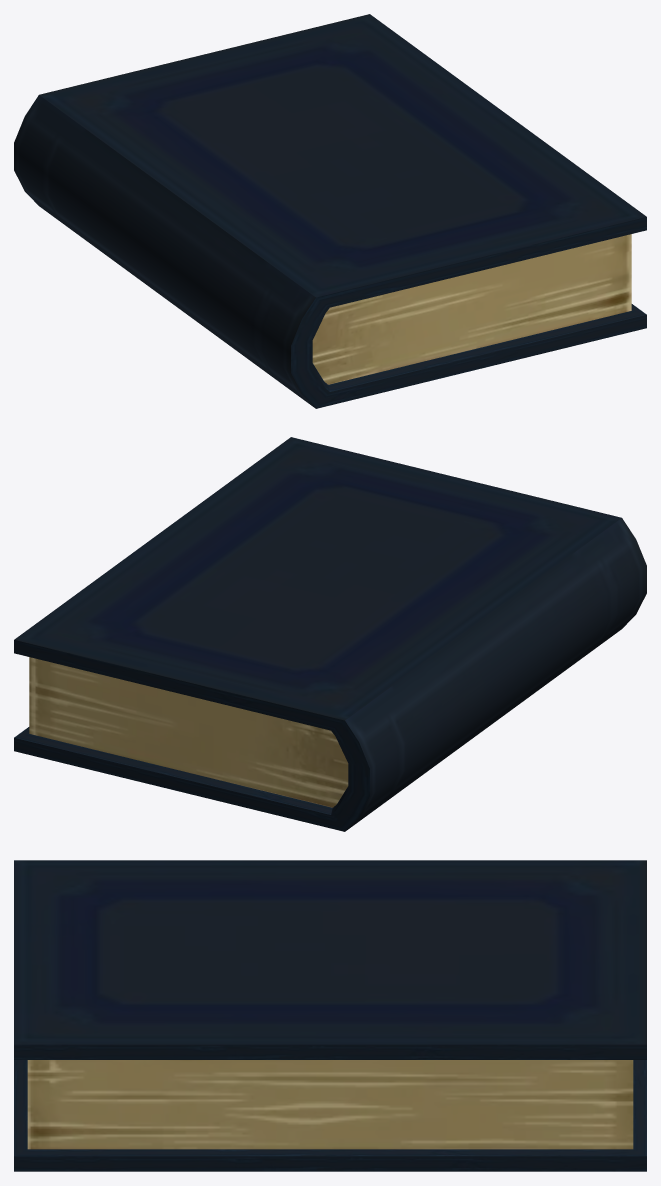
File: Book 5.glb
3 renders of one model, top to bottom at view 1: azimuth 30°, elevation 25°; view 2: azimuth 150°, elevation 25°; view 3: azimuth 270°, elevation 25°, orthographic. The views are drawn at different scales.
Visible parts, largest first — view 1: Book_5; view 2: Book_5; view 3: Book_5.
Boxes of the visible parts, x1=… form: Book_5: x1=14, y1=14, x2=646, y2=408; Book_5: x1=14, y1=437, x2=646, y2=831; Book_5: x1=14, y1=860, x2=646, y2=1171.
Bounding box in the file's own units: 0.2129 × 0.0636 × 0.2871.
1 material, 1 textured.
